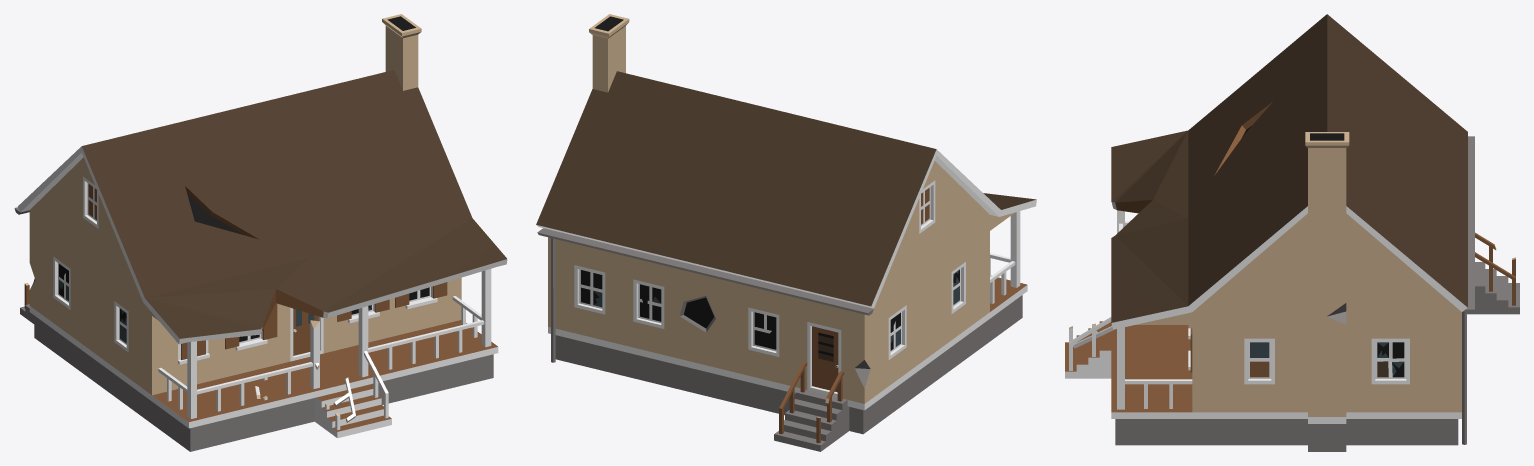
File: apocalypse_building-house-family-small-apocalypse-b.fbx
3 renders of one model, left to right at view 1: azimuth 30°, elevation 25°; view 2: azimuth 150°, elevation 25°; view 3: azimuth 270°, elevation 25°, orthographic. The views are drawn at different scales.
Parts seen in each view (by area): view 1: apocalypse_building_house_family_small_apocalypse_b; view 2: apocalypse_building_house_family_small_apocalypse_b; view 3: apocalypse_building_house_family_small_apocalypse_b.
Part boxes in pixels (left/top/right/bottom): apocalypse_building_house_family_small_apocalypse_b: left=14, top=14, right=507, bottom=451; apocalypse_building_house_family_small_apocalypse_b: left=536, top=14, right=1036, bottom=451; apocalypse_building_house_family_small_apocalypse_b: left=1065, top=14, right=1519, bottom=451.
Bounding box in the file's own units: 184 × 151 × 200.
